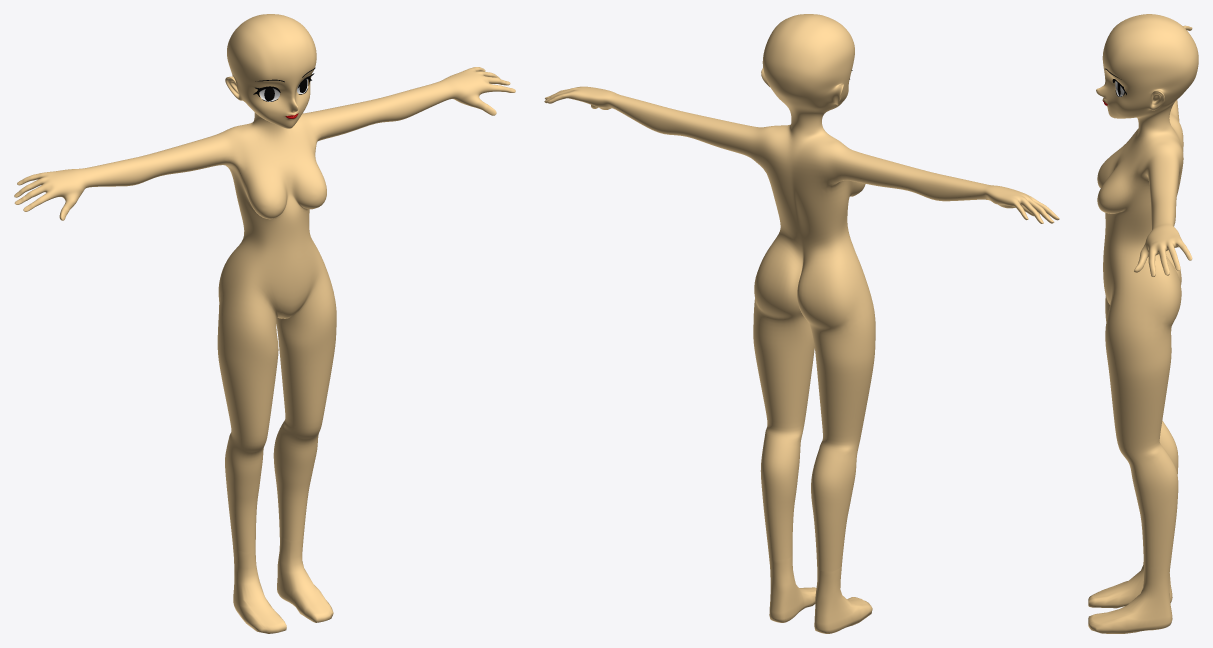
File: female_anime_basemesh.glb
The picture shows the model from 3 angles, left to right: view 1: azimuth 30°, elevation 25°; view 2: azimuth 150°, elevation 25°; view 3: azimuth 270°, elevation 25°; orthographic projection. The views are drawn at different scales.
Visible parts, largest first — view 1: Female Girl; view 2: Female Girl; view 3: Female Girl.
Part boxes in pixels (box(x1,y1,x2,y2)): Female Girl: box(14, 14, 515, 633); Female Girl: box(544, 14, 1059, 633); Female Girl: box(1088, 14, 1198, 633).
Size of the model in its own units: 1.51 by 1.71 by 0.2874.
